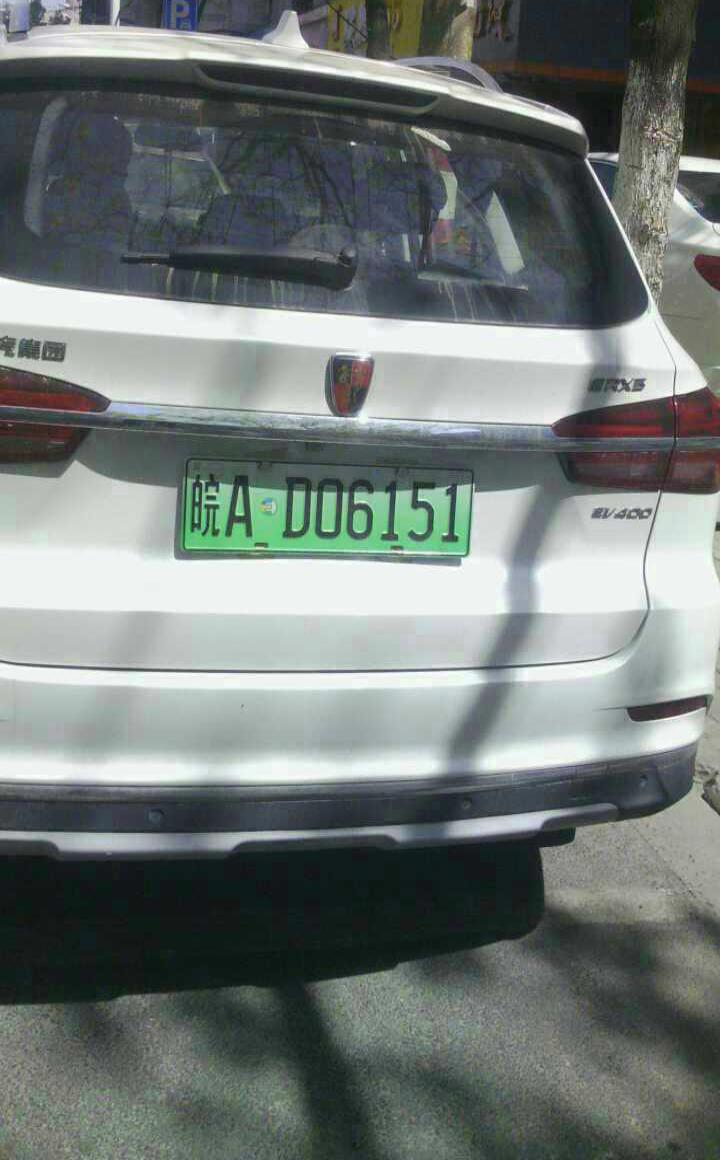car_id: (183, 455, 472, 553)
